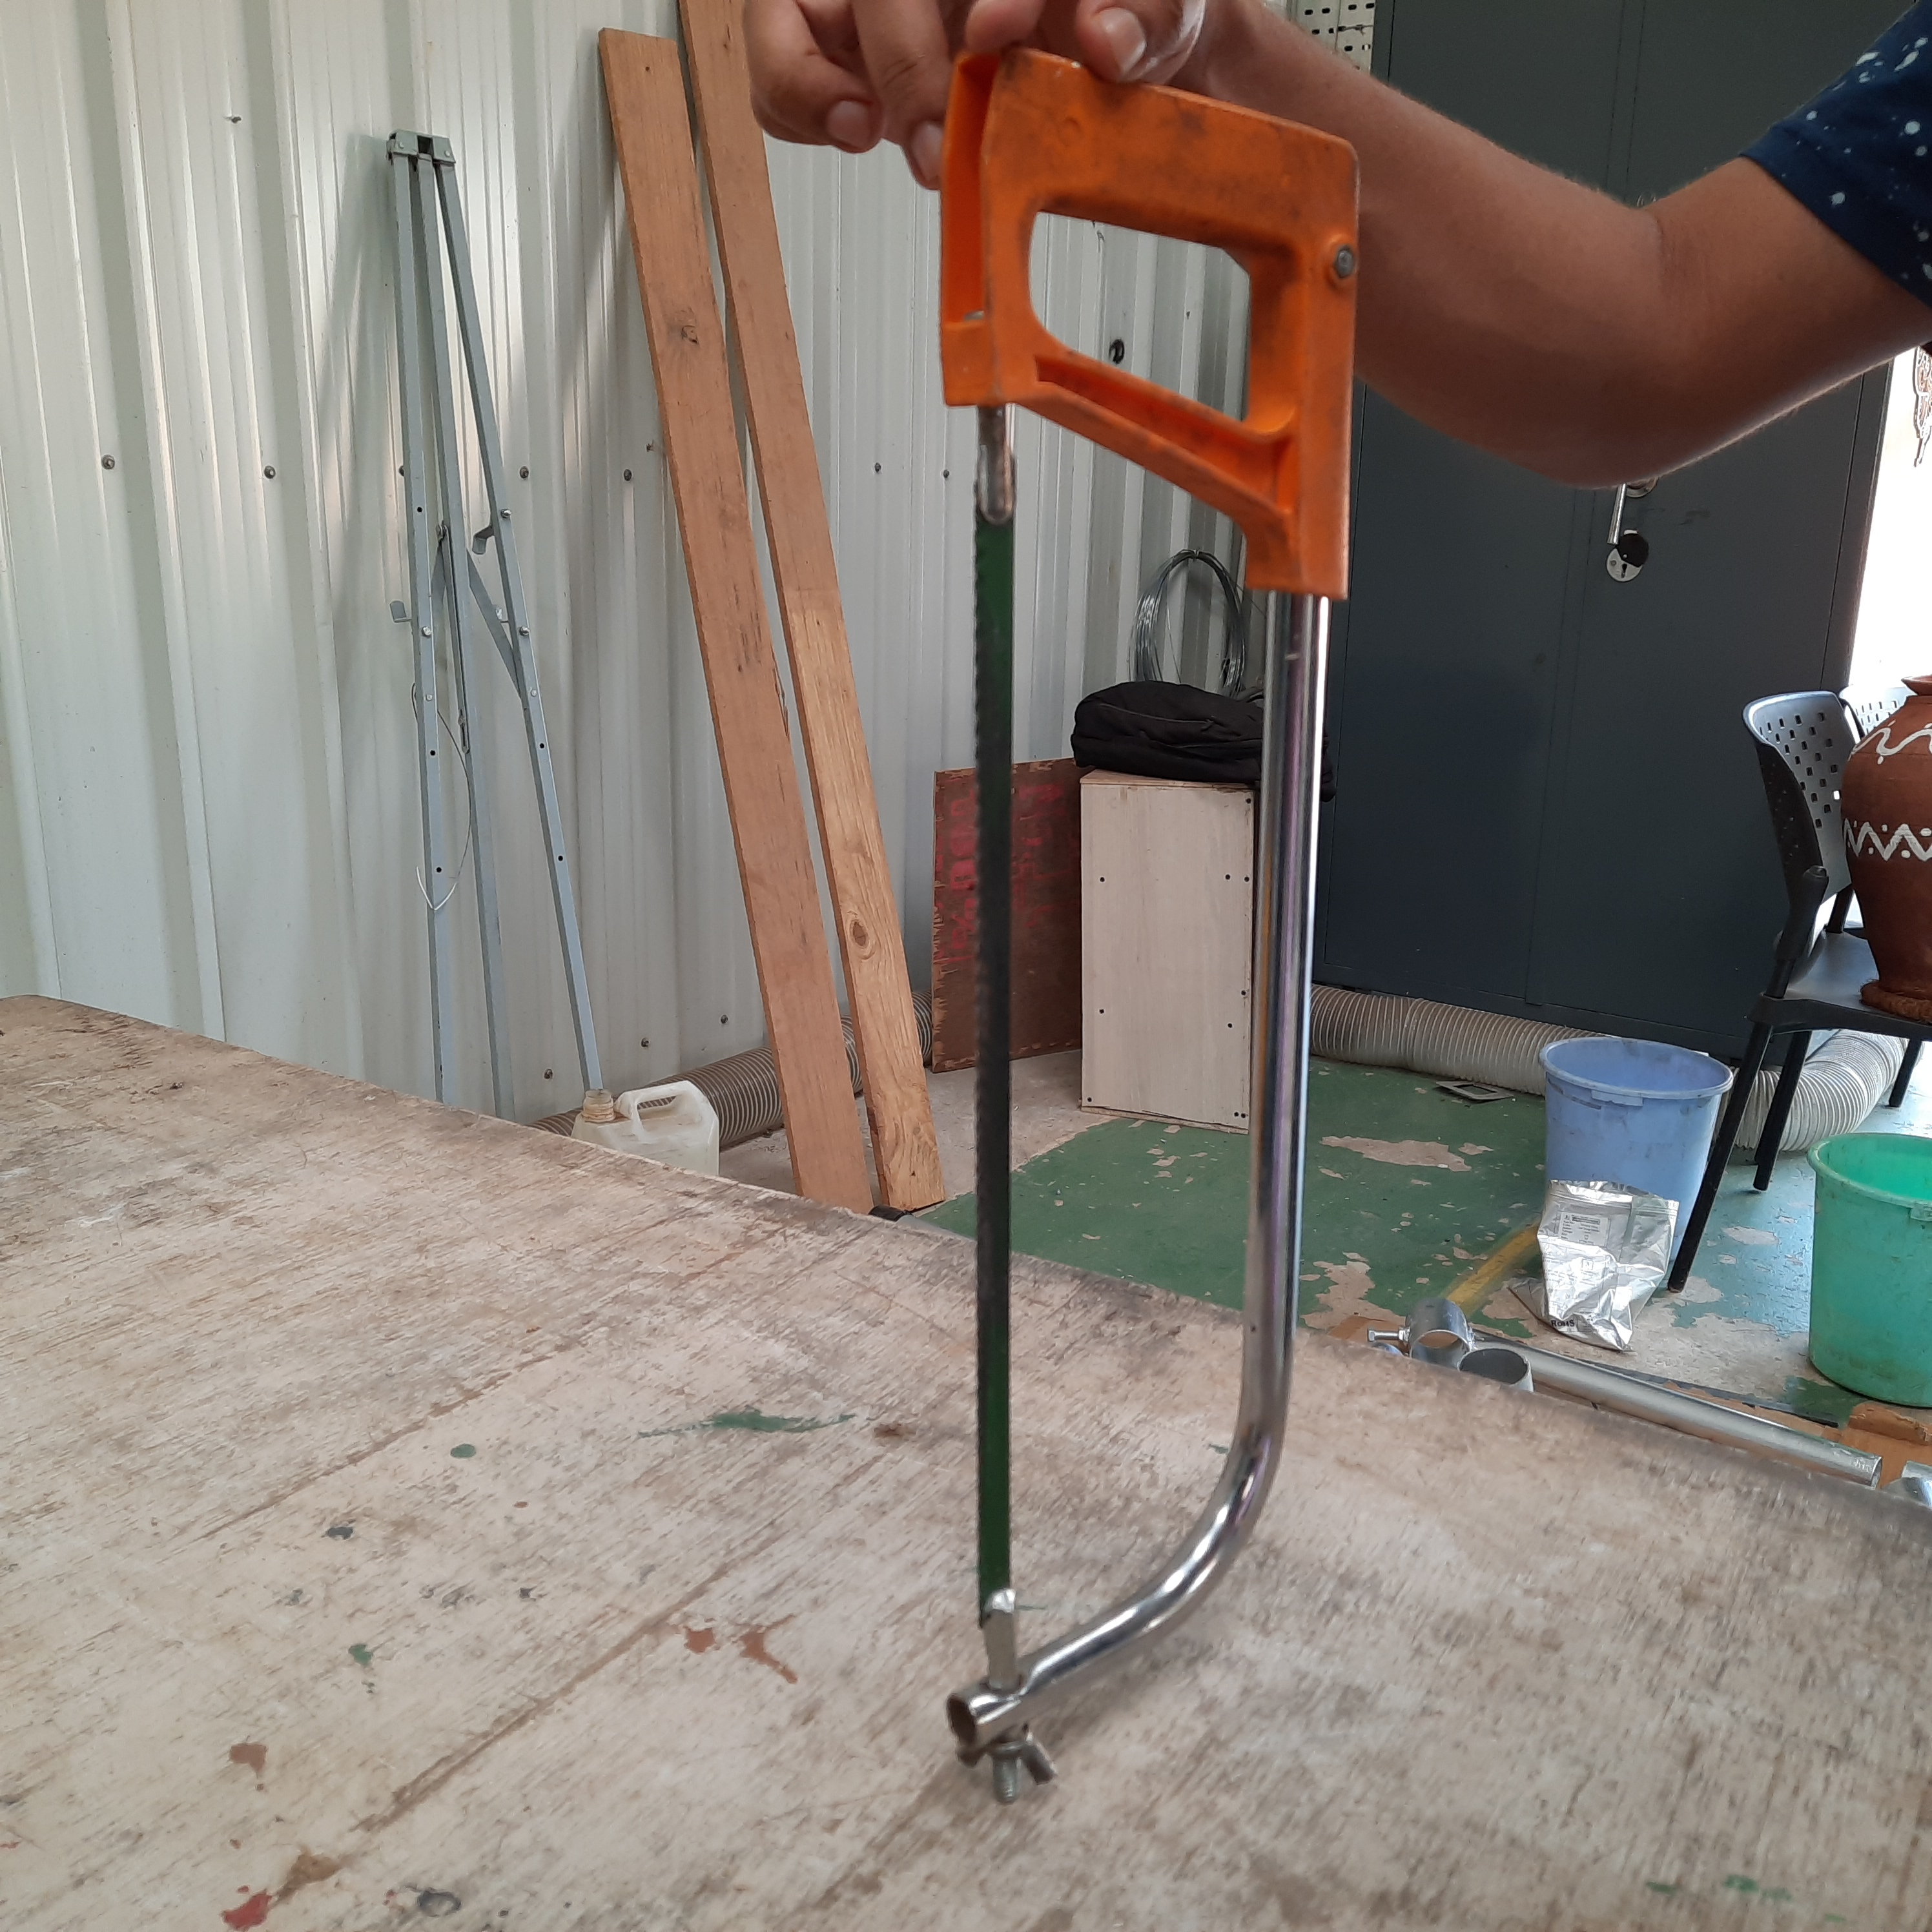Hexaframe: (911, 16, 1382, 1764)
